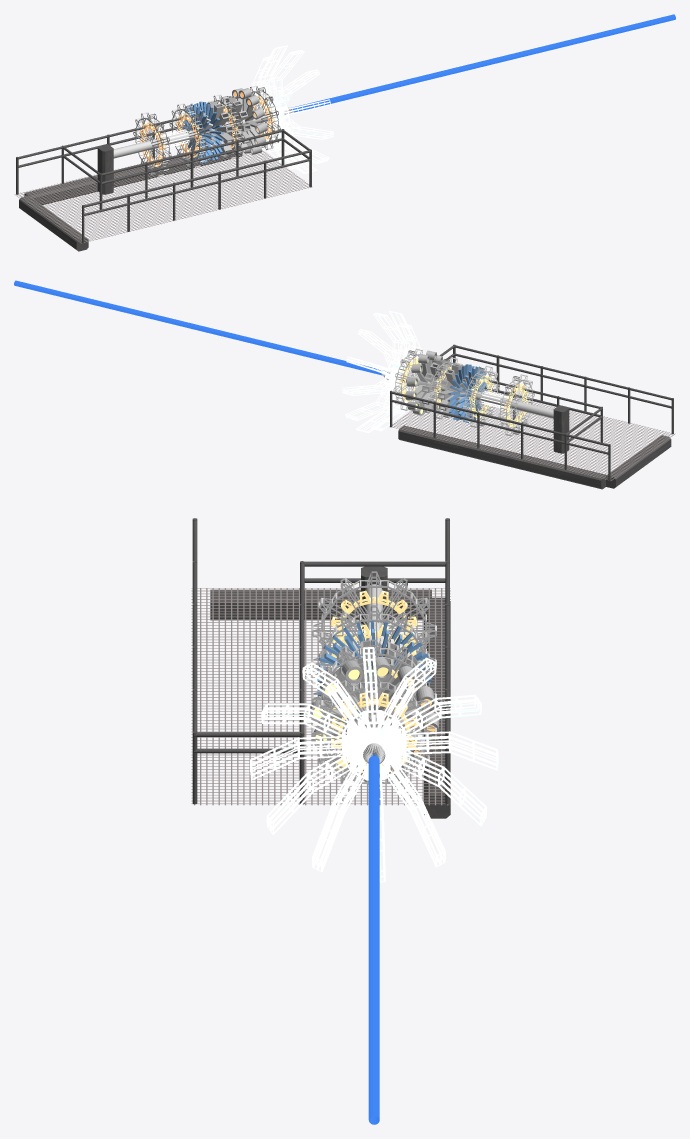
The model's file is Rotate_Laser.glb.
3 renders of one model, top to bottom at view 1: azimuth 30°, elevation 25°; view 2: azimuth 150°, elevation 25°; view 3: azimuth 270°, elevation 25°, orthographic. The views are drawn at different scales.
Visible parts, largest first — view 1: Plane, Cylinder.001, Cylinder.013, Cube.002, Cylinder.004, Cylinder.015, Cube.003, Cylinder.006, Cylinder, Cylinder.008, Cube, Cylinder.019 (+12 smaller); view 2: Plane, Cylinder.001, Cube.002, Cylinder.013, Cylinder.004, Cylinder.015, Cube.003, Cylinder.006, Cylinder, Cylinder.008, Cube, Cylinder.021 (+10 smaller); view 3: Plane, Cylinder.001, Cylinder.013, Cube.003, Cylinder.015, Cylinder.004, Cube.002, Cylinder.006, Cylinder.002, Cylinder.018, Cylinder.005, Cylinder.003 (+2 smaller).
Boxes of the visible parts, left/top/right/bottom form: Plane: left=14, top=150, right=312, bottom=243; Cylinder.001: left=251, top=45, right=333, bottom=173; Cylinder.013: left=290, top=14, right=675, bottom=112; Cube.002: left=24, top=148, right=242, bottom=204; Cylinder.004: left=169, top=85, right=280, bottom=167; Cylinder.015: left=133, top=94, right=244, bottom=176; Cube.003: left=19, top=196, right=88, bottom=251; Cylinder.006: left=229, top=88, right=267, bottom=154; Cylinder: left=113, top=107, right=292, bottom=158; Cylinder.008: left=182, top=103, right=213, bottom=163; Cube: left=97, top=144, right=113, bottom=194; Cylinder.019: left=83, top=158, right=310, bottom=215; Plane: left=389, top=389, right=675, bottom=480; Cylinder.001: left=342, top=310, right=422, bottom=433; Cube.002: left=398, top=425, right=606, bottom=489; Cylinder.013: left=14, top=280, right=382, bottom=375; Cylinder.004: left=393, top=348, right=499, bottom=427; Cylinder.015: left=428, top=357, right=534, bottom=436; Cube.003: left=606, top=435, right=671, bottom=488; Cylinder.006: left=405, top=350, right=442, bottom=415; Cylinder: left=382, top=370, right=553, bottom=418; Cylinder.008: left=457, top=366, right=487, bottom=423; Cube: left=553, top=405, right=569, bottom=453; Cylinder.021: left=390, top=391, right=609, bottom=446; Plane: left=191, top=588, right=450, bottom=805; Cylinder.001: left=250, top=647, right=498, bottom=882; Cylinder.013: left=368, top=753, right=379, bottom=1124; Cube.003: left=210, top=589, right=431, bottom=620; Cylinder.015: left=311, top=571, right=436, bottom=749; Cylinder.004: left=311, top=605, right=436, bottom=785; Cube.002: left=424, top=597, right=450, bottom=818; Cylinder.006: left=310, top=657, right=439, bottom=781; Cylinder.002: left=344, top=714, right=404, bottom=774; Cylinder.018: left=192, top=520, right=197, bottom=731; Cylinder.005: left=331, top=624, right=417, bottom=772; Cylinder.003: left=322, top=656, right=425, bottom=747.
Bounding box in the file's own units: 219 × 38.3 × 47.32.
12 materials, 3 textured.
